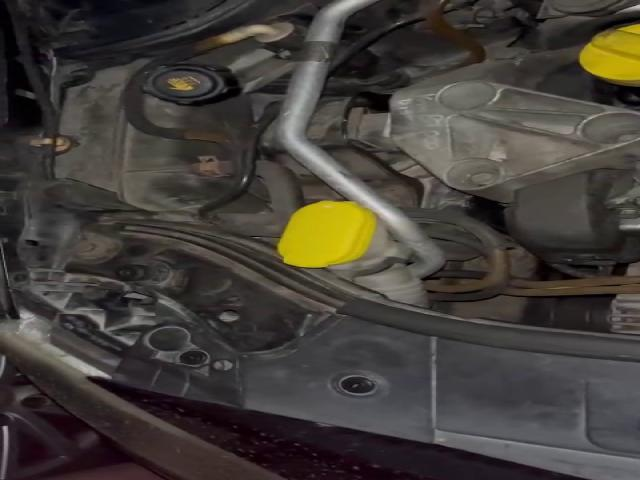antifreeze_tank: (55, 62, 252, 211)
